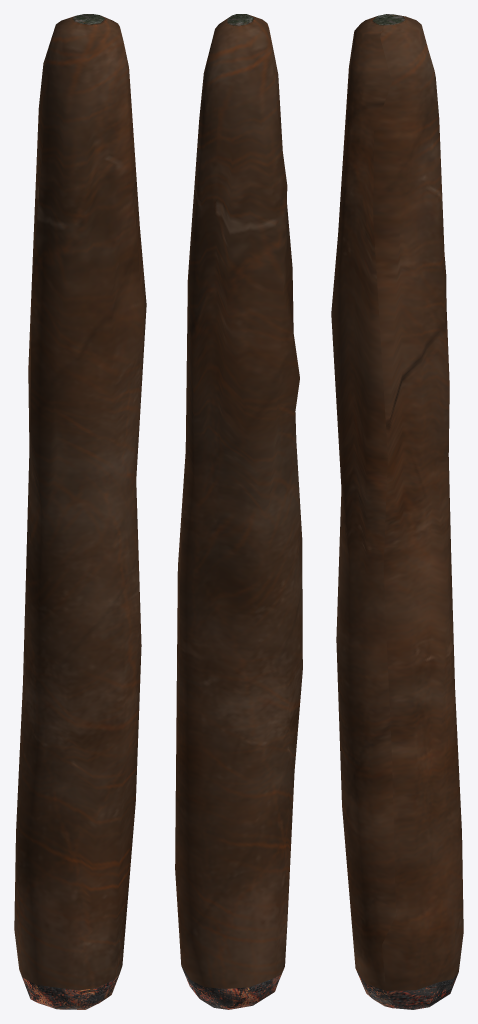
The model's file is BluntLit.fbx.
3 renders of one model, left to right at view 1: azimuth 90°, elevation 25°; view 2: azimuth 150°, elevation 25°; view 3: azimuth 270°, elevation 25°, orthographic.
Visible parts, largest first — view 1: Cylinder; view 2: Cylinder; view 3: Cylinder.
Part boxes in pixels (bbox=[...]): Cylinder: bbox=[14, 14, 146, 1009]; Cylinder: bbox=[175, 14, 302, 1009]; Cylinder: bbox=[331, 14, 463, 1009].
Size of the model in its own units: 0.0126 by 0.1017 by 0.0124.
